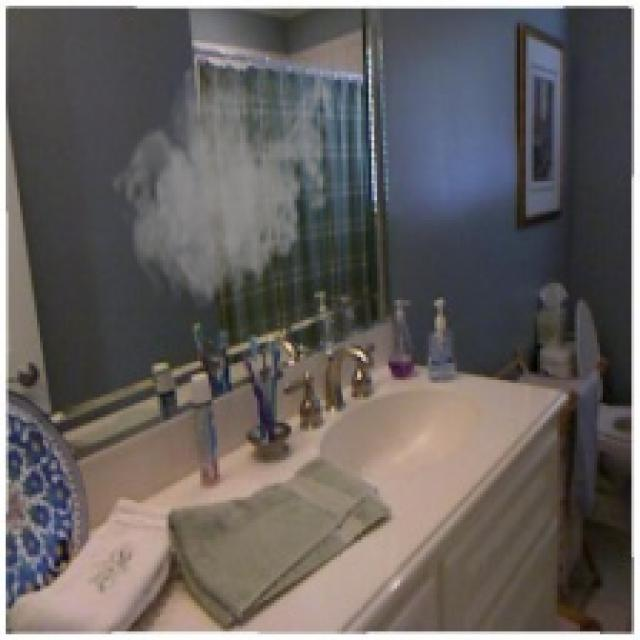smoke: (109, 31, 340, 312)
